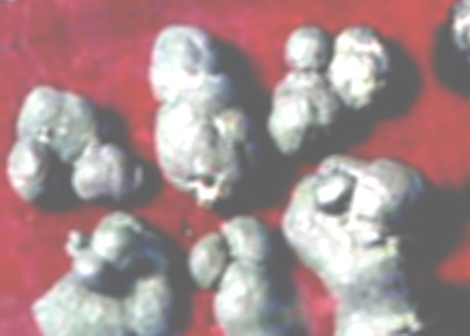halobolite: (122, 6, 272, 218), (285, 187, 463, 336), (18, 188, 183, 332), (35, 47, 172, 186), (299, 53, 432, 184), (184, 218, 273, 336)
